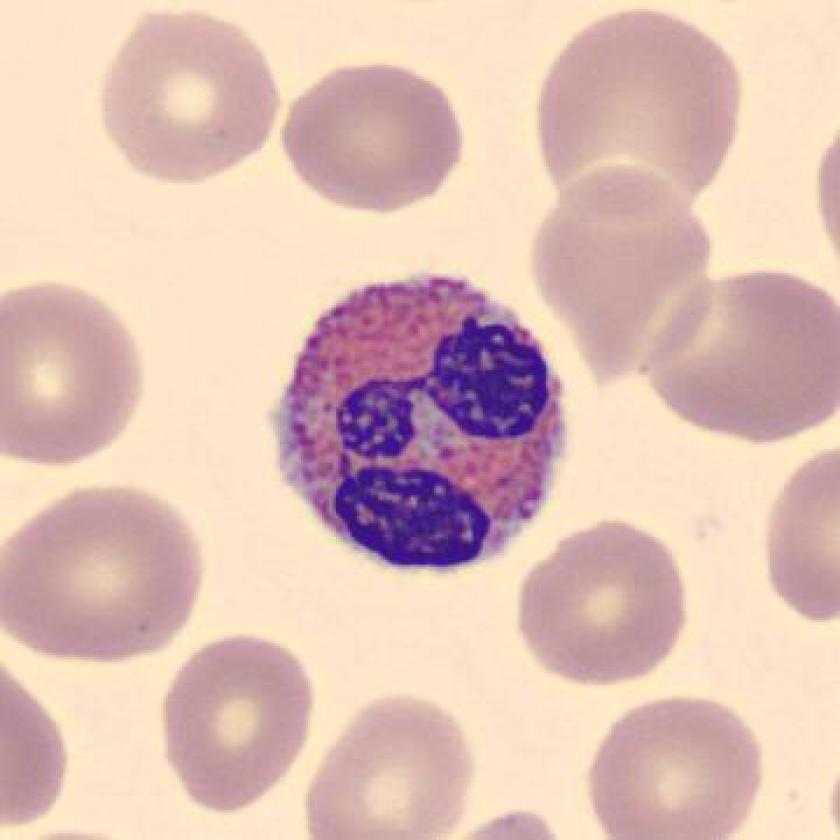eosinophil: (262, 260, 582, 582)
